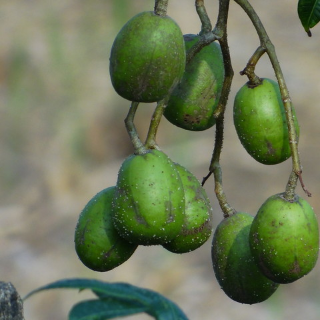coc: (112, 149, 185, 247), (110, 11, 185, 103), (250, 192, 318, 283)
